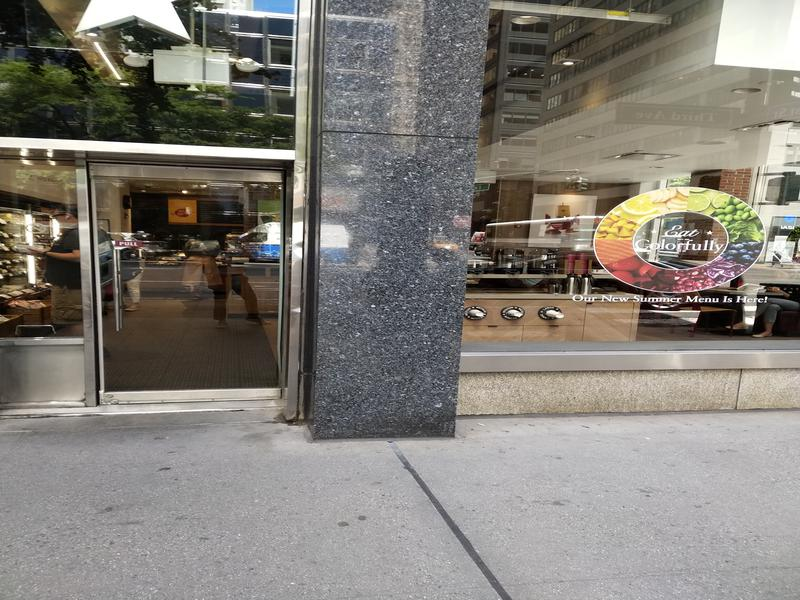door: (80, 139, 305, 410)
